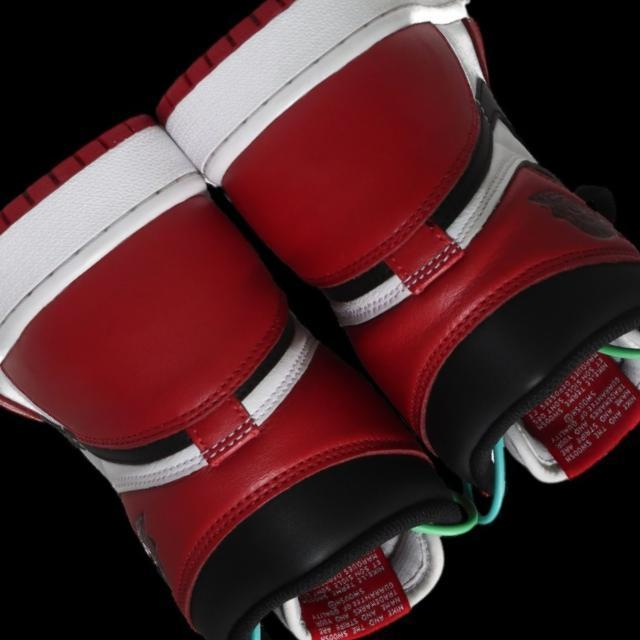nike original jordan 1: (140, 0, 640, 546), (0, 94, 498, 640)
